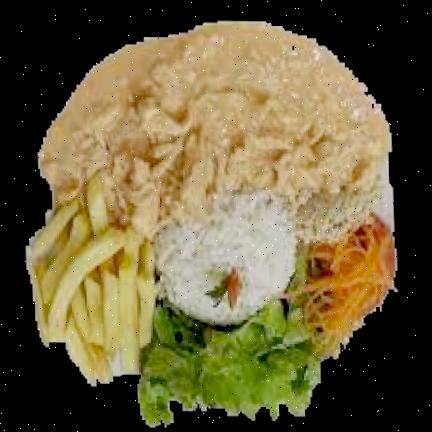carrot: (283, 217, 394, 357)
chicken: (41, 25, 388, 235)
potato: (29, 176, 156, 384)
rice: (155, 192, 295, 325)
salad: (139, 300, 319, 427)
